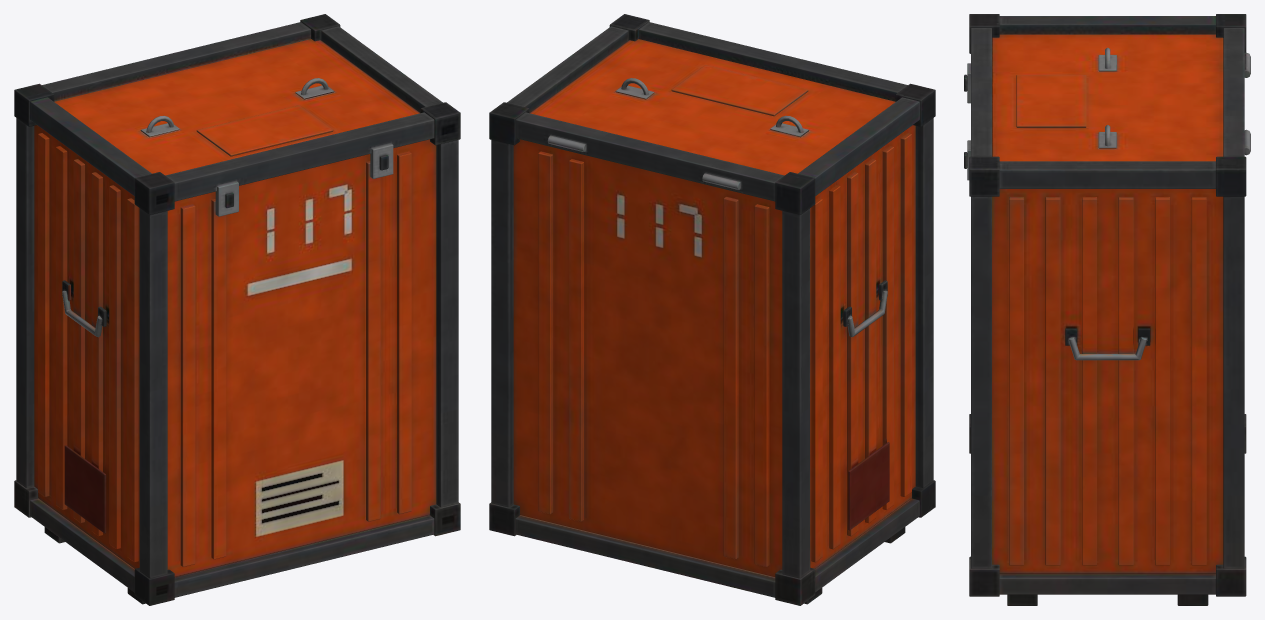
The model's file is crate_tall.glb.
3 views of the same model, side by side, from view 1: azimuth 30°, elevation 25°; view 2: azimuth 150°, elevation 25°; view 3: azimuth 270°, elevation 25° (orthographic). The views are drawn at different scales.
Parts seen in each view (by area): view 1: crate_tall; view 2: crate_tall; view 3: crate_tall.
Boxes of the visible parts, x1,y1,x2,y2 form: crate_tall: [14, 14, 460, 605]; crate_tall: [489, 14, 935, 605]; crate_tall: [964, 14, 1250, 605].
Bounding box in the file's own units: 1.22 × 1.62 × 0.942.
1 material, 1 textured.
